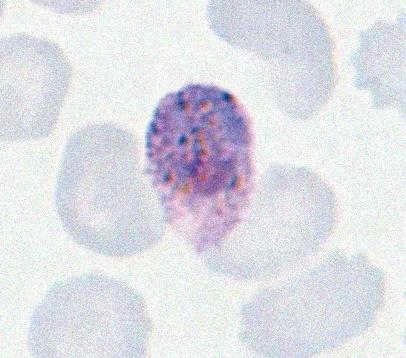Infected: (144, 83, 255, 252)
Uninfected: (204, 162, 338, 280), (205, 0, 335, 119), (239, 254, 385, 358), (57, 124, 163, 258), (27, 273, 152, 358), (0, 33, 69, 141)
